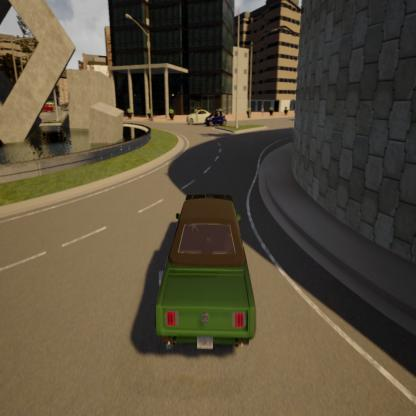Cars: (148, 187, 260, 371), (184, 104, 211, 126), (204, 107, 229, 130)
